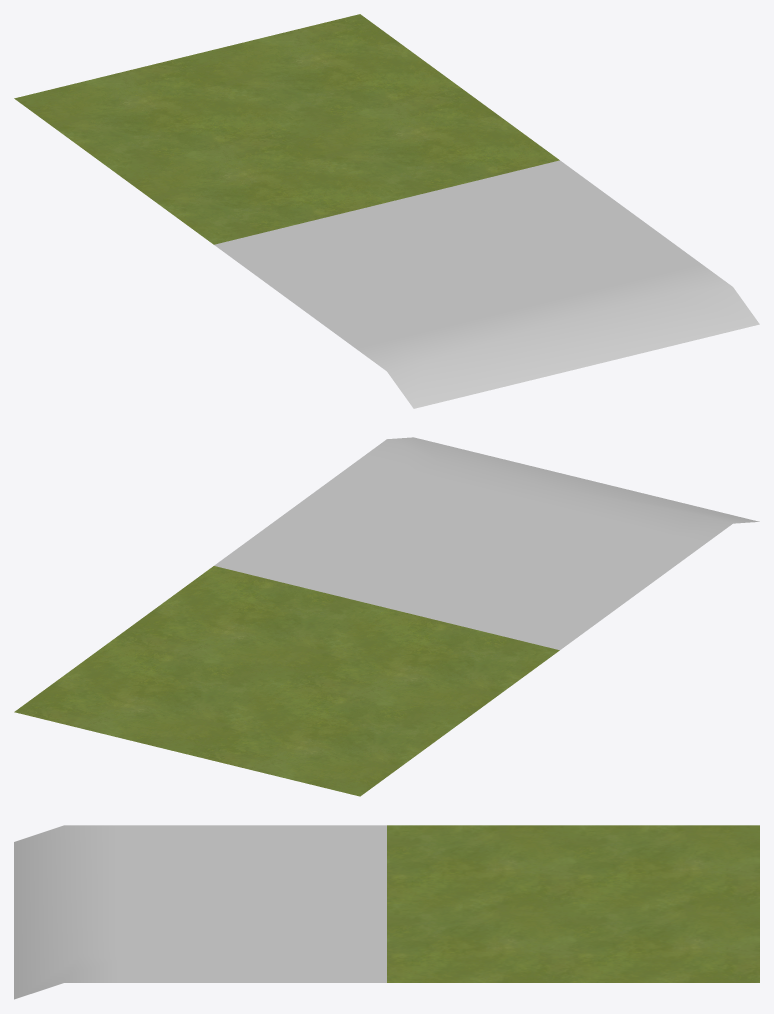
File: map.FBX
3 views of the same model, one above another, from view 1: azimuth 30°, elevation 25°; view 2: azimuth 150°, elevation 25°; view 3: azimuth 270°, elevation 25° (orthographic). The views are drawn at different scales.
Parts seen in each view (by area): view 1: map_main02, map_main04; view 2: map_main04, map_main02; view 3: map_main02, map_main04.
Boxes of the visible parts, left/top/right/bottom form: map_main02: left=214, top=160, right=759, bottom=408; map_main04: left=14, top=14, right=559, bottom=244; map_main04: left=14, top=566, right=559, bottom=796; map_main02: left=214, top=437, right=759, bottom=650; map_main02: left=14, top=825, right=386, bottom=999; map_main04: left=387, top=825, right=759, bottom=982.
Bounding box in the file's own units: 9000 × 443 × 18000.
